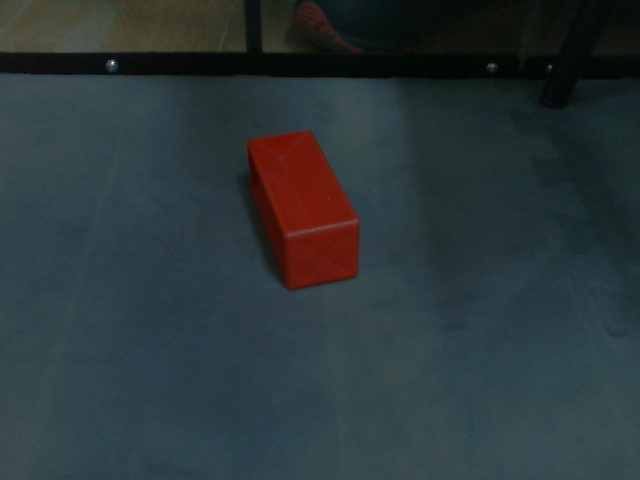RedSample: (241, 128, 362, 292)
